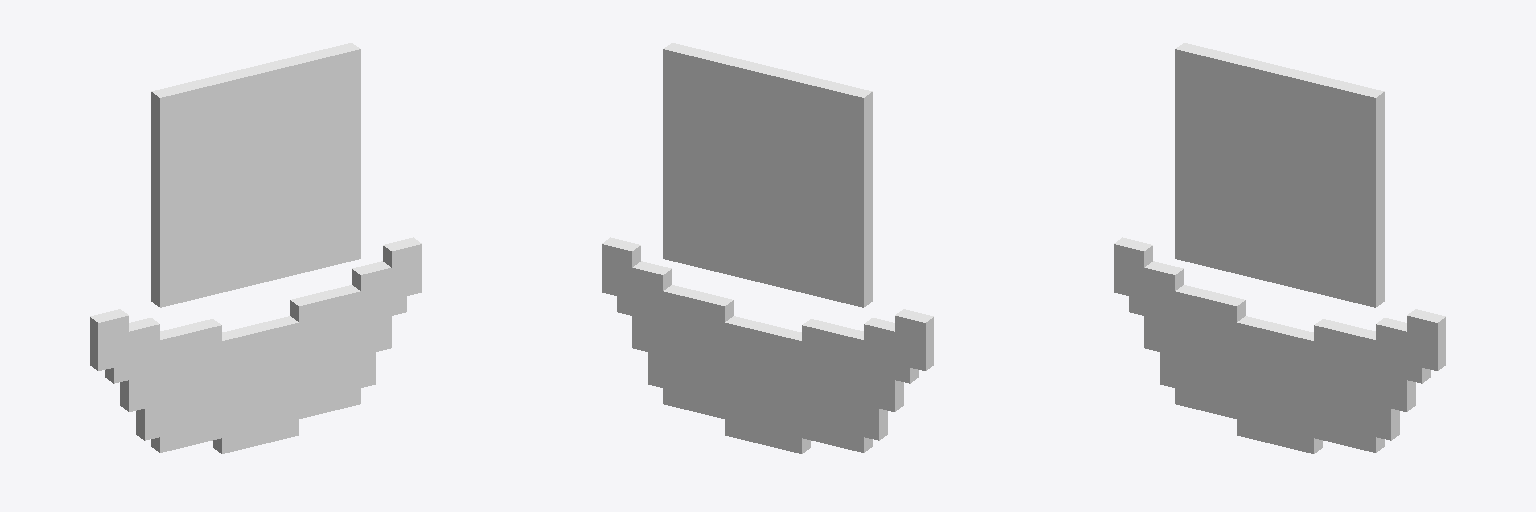
Rendered from OneEyes.obj.
The picture shows the model from 3 angles: view 1: azimuth 30°, elevation 25°; view 2: azimuth 150°, elevation 25°; view 3: azimuth 330°, elevation 25°; orthographic projection.
Parts seen in each view (by area): view 1: OneEyes; view 2: OneEyes; view 3: OneEyes.
Part boxes in pixels (x1,y1,x2,y2): OneEyes: (90, 43, 421, 453); OneEyes: (602, 43, 933, 453); OneEyes: (1114, 43, 1445, 453).
Size of the model in its own units: 21 by 23 by 1.